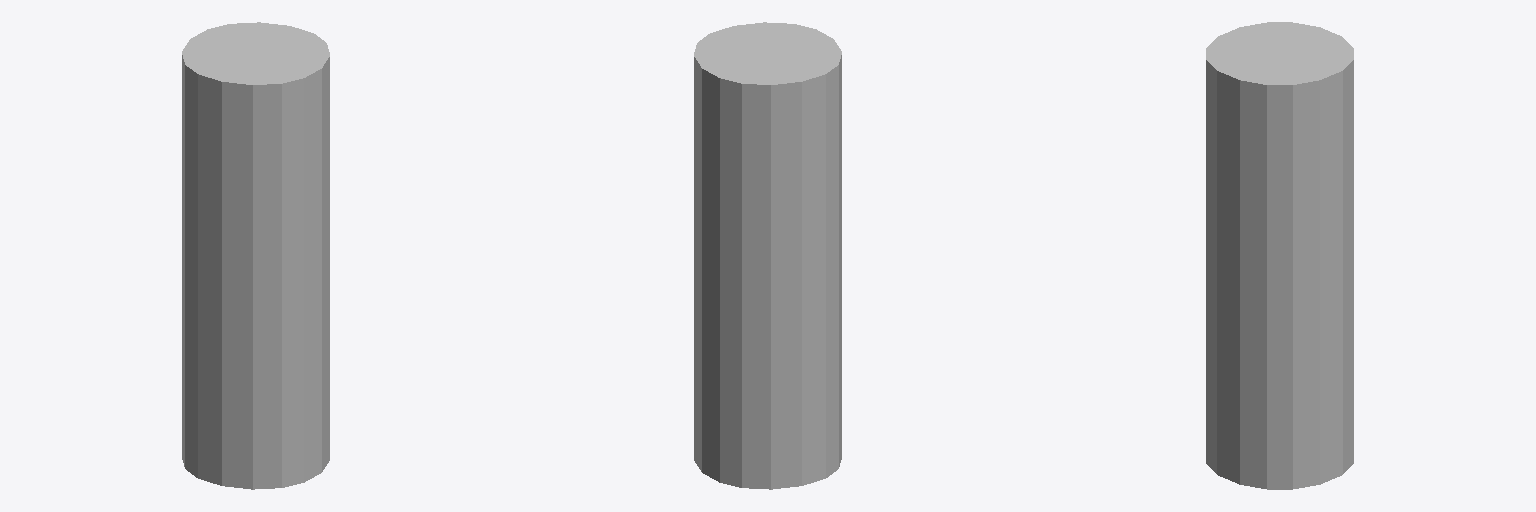
Rendered from Pipe01.obj.
The picture shows the model from 3 angles: view 1: azimuth 30°, elevation 25°; view 2: azimuth 150°, elevation 25°; view 3: azimuth 270°, elevation 25°; orthographic projection.
Parts seen in each view (by area): view 1: Pipe01; view 2: Pipe01; view 3: Pipe01.
Boxes of the visible parts, box(x1,y1,x2,y2) form: Pipe01: box(182, 22, 329, 489); Pipe01: box(694, 22, 841, 489); Pipe01: box(1206, 22, 1353, 489).
Size of the model in its own units: 0.6667 by 2 by 0.6667.